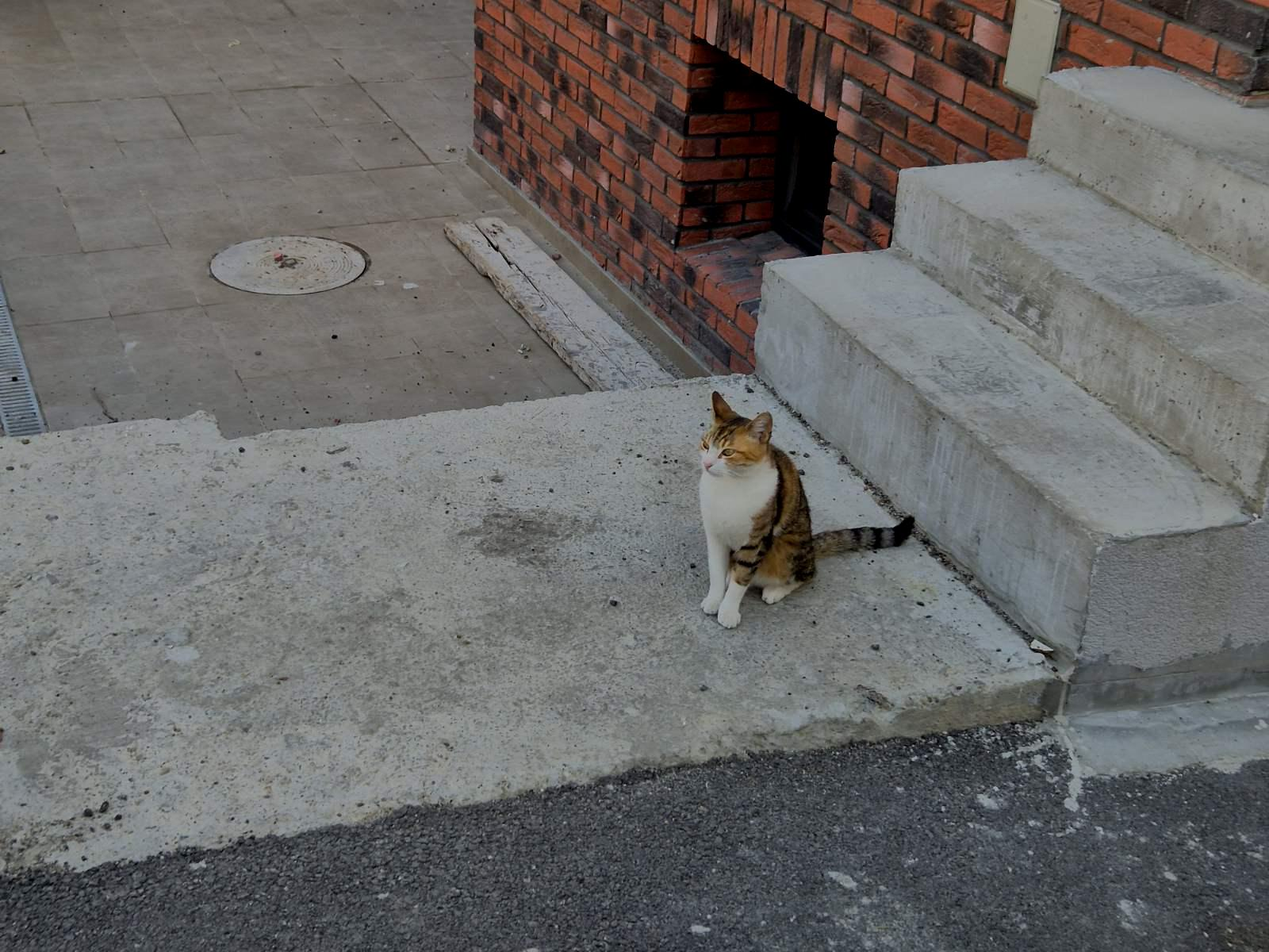macka: (698, 392, 916, 630)
